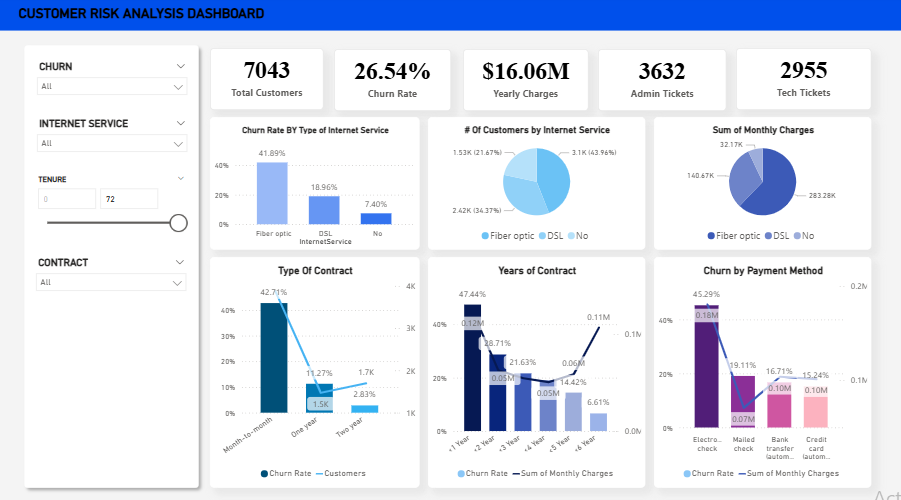

This screenshot's page, from the dashboard's own definition file:
{"tool":"powerbi","page":{"name":"Customer Risk Analysis","canvas":[1280,720],"ordinal":1},"visuals":[{"type":"shape","box":[0,0,1280,49],"z":0},{"type":"textbox","box":[21,8,438,33],"z":1000},{"type":"shape","box":[25,61,265,645],"z":2000},{"type":"slicer","fields":{"Values":["Churn.Churn"]},"box":[42,82,233,81],"z":3000},{"type":"slicer","fields":{"Values":["Churn.InternetService"]},"box":[42,163,233,81],"z":4000},{"type":"slicer","fields":{"Values":["Churn.tenure"]},"box":[41,244,233,97],"z":5000},{"type":"slicer","fields":{"Values":["Churn.Contract"]},"box":[41,360,233,81],"z":6000},{"type":"card","fields":{"Values":["CountNonNull(01 Churn-Dataset.customerID)"]},"box":[298,74,161,88],"z":7000},{"type":"card","fields":{"Values":["Churn.% Churn Rate"]},"box":[474,75,166,88],"z":8000},{"type":"card","fields":{"Values":["Sum(Churn.TotalCharges)"]},"box":[656,75,178,88],"z":9000},{"type":"card","fields":{"Values":["Sum(Churn.numAdminTickets)"]},"box":[848,75,182,88],"z":10000},{"type":"card","fields":{"Values":["Sum(Churn.numTechTickets)"]},"box":[1043,74,192,88],"z":11000},{"type":"columnChart","title":"Churn Rate BY Type of Internet Service","fields":{"Y":["Churn.% Churn Rate"],"Category":["Churn.InternetService"]},"box":[298,172,297,188],"z":12000},{"type":"pieChart","title":"# Of Customers by Internet Service","fields":{"Y":["CountNonNull(Churn.customerID)"],"Category":["Churn.InternetService"]},"box":[607,172,308,188],"z":13000},{"type":"pieChart","title":"Sum of Monthly Charges","fields":{"Category":["Churn.InternetService"],"Y":["Sum(Churn.MonthlyCharges)"]},"box":[927,172,308,188],"z":14000},{"type":"lineStackedColumnComboChart","title":"Type Of Contract","fields":{"Y2":["CountNonNull(Churn.customerID)"],"Y":["Churn.% Churn Rate"],"Category":["Churn.Contract"]},"box":[298,370,297,327],"z":15000},{"type":"lineStackedColumnComboChart","title":"Years of Contract","fields":{"Y":["Churn.% Churn Rate"],"Y2":["Sum(Churn.MonthlyCharges)"],"Category":["Churn.Tenure(in years)"]},"box":[607,370,308,327],"z":16000},{"type":"lineStackedColumnComboChart","title":"Churn by Payment Method","fields":{"Y":["Churn.% Churn Rate"],"Y2":["Sum(Churn.MonthlyCharges)"],"Category":["Churn.PaymentMethod"]},"box":[927,370,308,327],"z":17000}]}

Visuals, with their boxes in screenshot pixels (x1, y1, x2, y2), scaled from the page's 1280x720 canvas onto the 901x500 screenshot:
shape: 0 0 900 34
textbox: 15 6 323 28
shape: 18 42 204 490
slicer - Churn.Churn: 30 57 194 113
slicer - Churn.InternetService: 30 113 194 169
slicer - Churn.tenure: 29 169 193 237
slicer - Churn.Contract: 29 250 193 306
card - CountNonNull(01 Churn-Dataset.customerID): 210 51 323 112
card - Churn.% Churn Rate: 334 52 450 113
card - Sum(Churn.TotalCharges): 462 52 587 113
card - Sum(Churn.numAdminTickets): 597 52 725 113
card - Sum(Churn.numTechTickets): 734 51 869 112
"Churn Rate BY Type of Internet Service" columnChart: 210 119 419 250
"# Of Customers by Internet Service" pieChart: 427 119 644 250
"Sum of Monthly Charges" pieChart: 653 119 869 250
"Type Of Contract" lineStackedColumnComboChart: 210 257 419 484
"Years of Contract" lineStackedColumnComboChart: 427 257 644 484
"Churn by Payment Method" lineStackedColumnComboChart: 653 257 869 484
